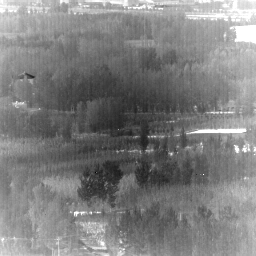aircraft: (118, 128, 120, 130)
